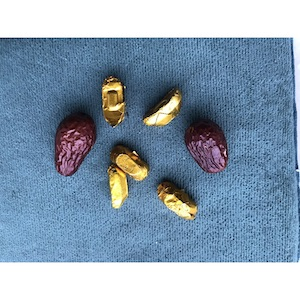date: (50, 109, 100, 177), (179, 114, 232, 177)
